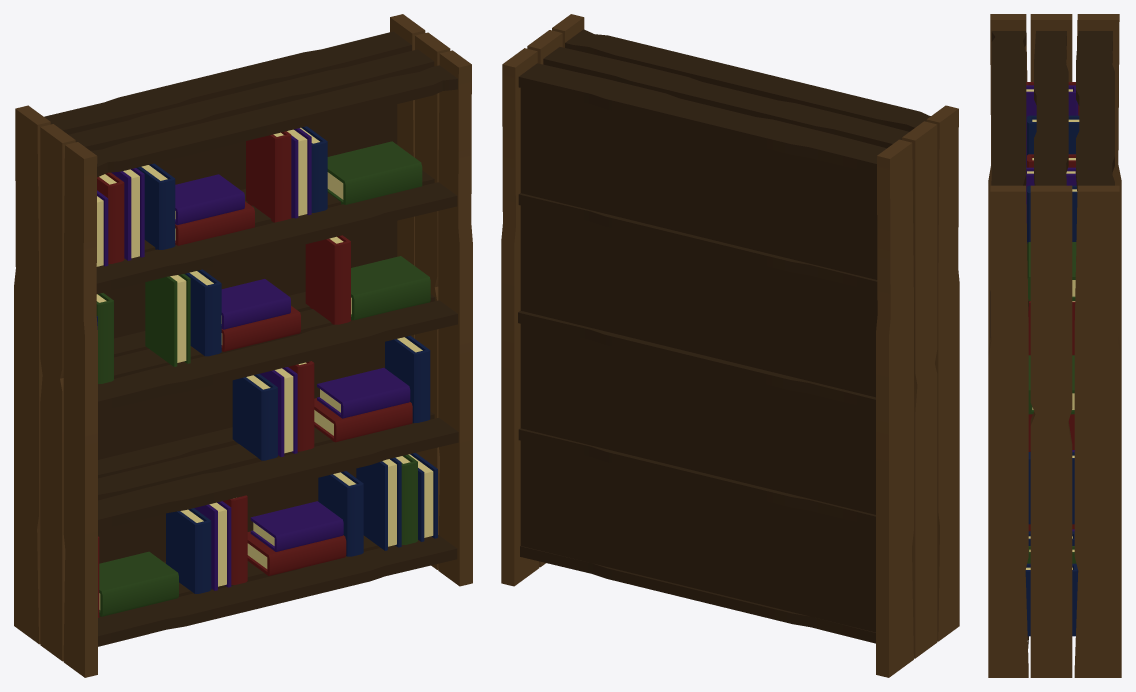
Rendered from Bookcase_Full.glb.
3 views of the same model, side by side, from view 1: azimuth 30°, elevation 25°; view 2: azimuth 150°, elevation 25°; view 3: azimuth 270°, elevation 25° (orthographic). The views are drawn at different scales.
Parts seen in each view (by area): view 1: Bookcase_Full; view 2: Bookcase_Full; view 3: Bookcase_Full.
Boxes of the visible parts, left/top/right/bottom form: Bookcase_Full: left=14, top=14, right=472, bottom=677; Bookcase_Full: left=501, top=14, right=959, bottom=677; Bookcase_Full: left=988, top=14, right=1121, bottom=677.
Size of the model in its own units: 208 by 265 by 65.82.
